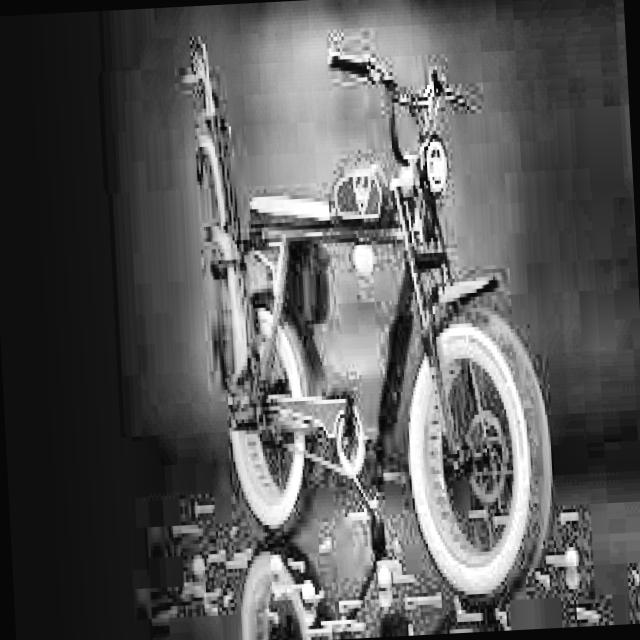bicycle: (165, 8, 563, 628)
